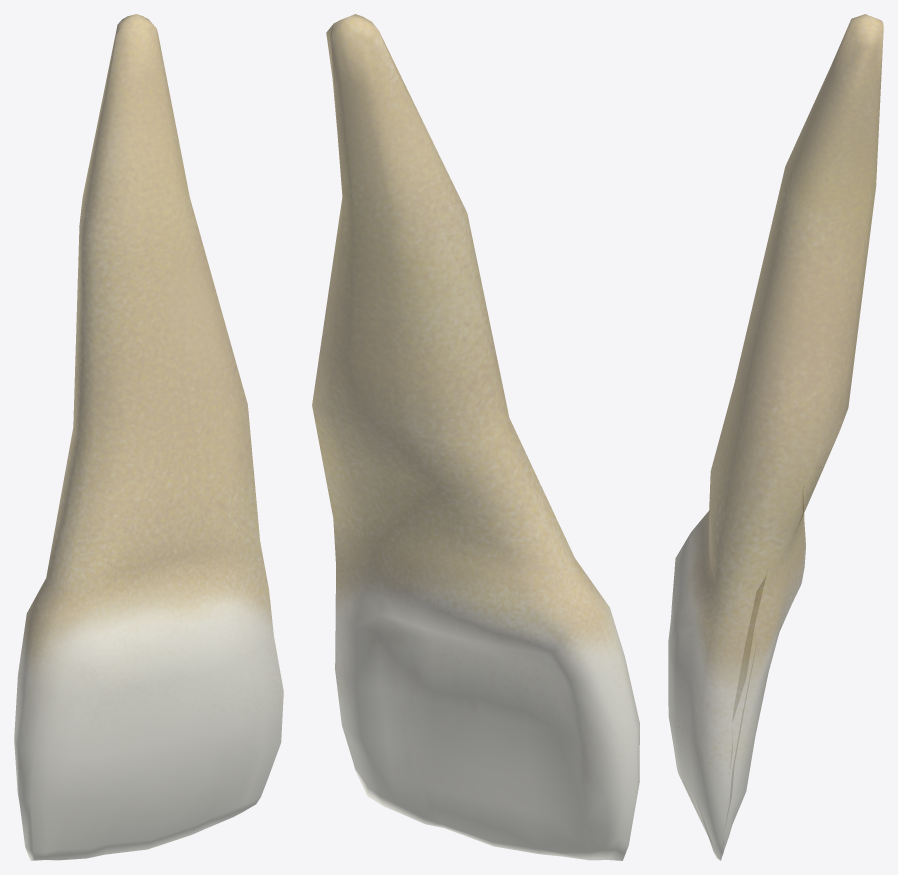
File: Human Teeth Upper Lateral Incisor.gltf
3 views of the same model, side by side, from view 1: azimuth 30°, elevation 25°; view 2: azimuth 150°, elevation 25°; view 3: azimuth 270°, elevation 25° (orthographic). The views are drawn at different scales.
Visible parts, largest first — view 1: Human_Teeth_Upper_Lateral_Incisor_Geo; view 2: Human_Teeth_Upper_Lateral_Incisor_Geo; view 3: Human_Teeth_Upper_Lateral_Incisor_Geo.
Boxes of the visible parts, x1,y1,x2,y2 form: Human_Teeth_Upper_Lateral_Incisor_Geo: (14, 14, 283, 860); Human_Teeth_Upper_Lateral_Incisor_Geo: (312, 14, 639, 860); Human_Teeth_Upper_Lateral_Incisor_Geo: (668, 14, 883, 860).
Bounding box in the file's own units: 1.64 × 4.6 × 1.08.
Materials: 1 (1 with a texture image).
